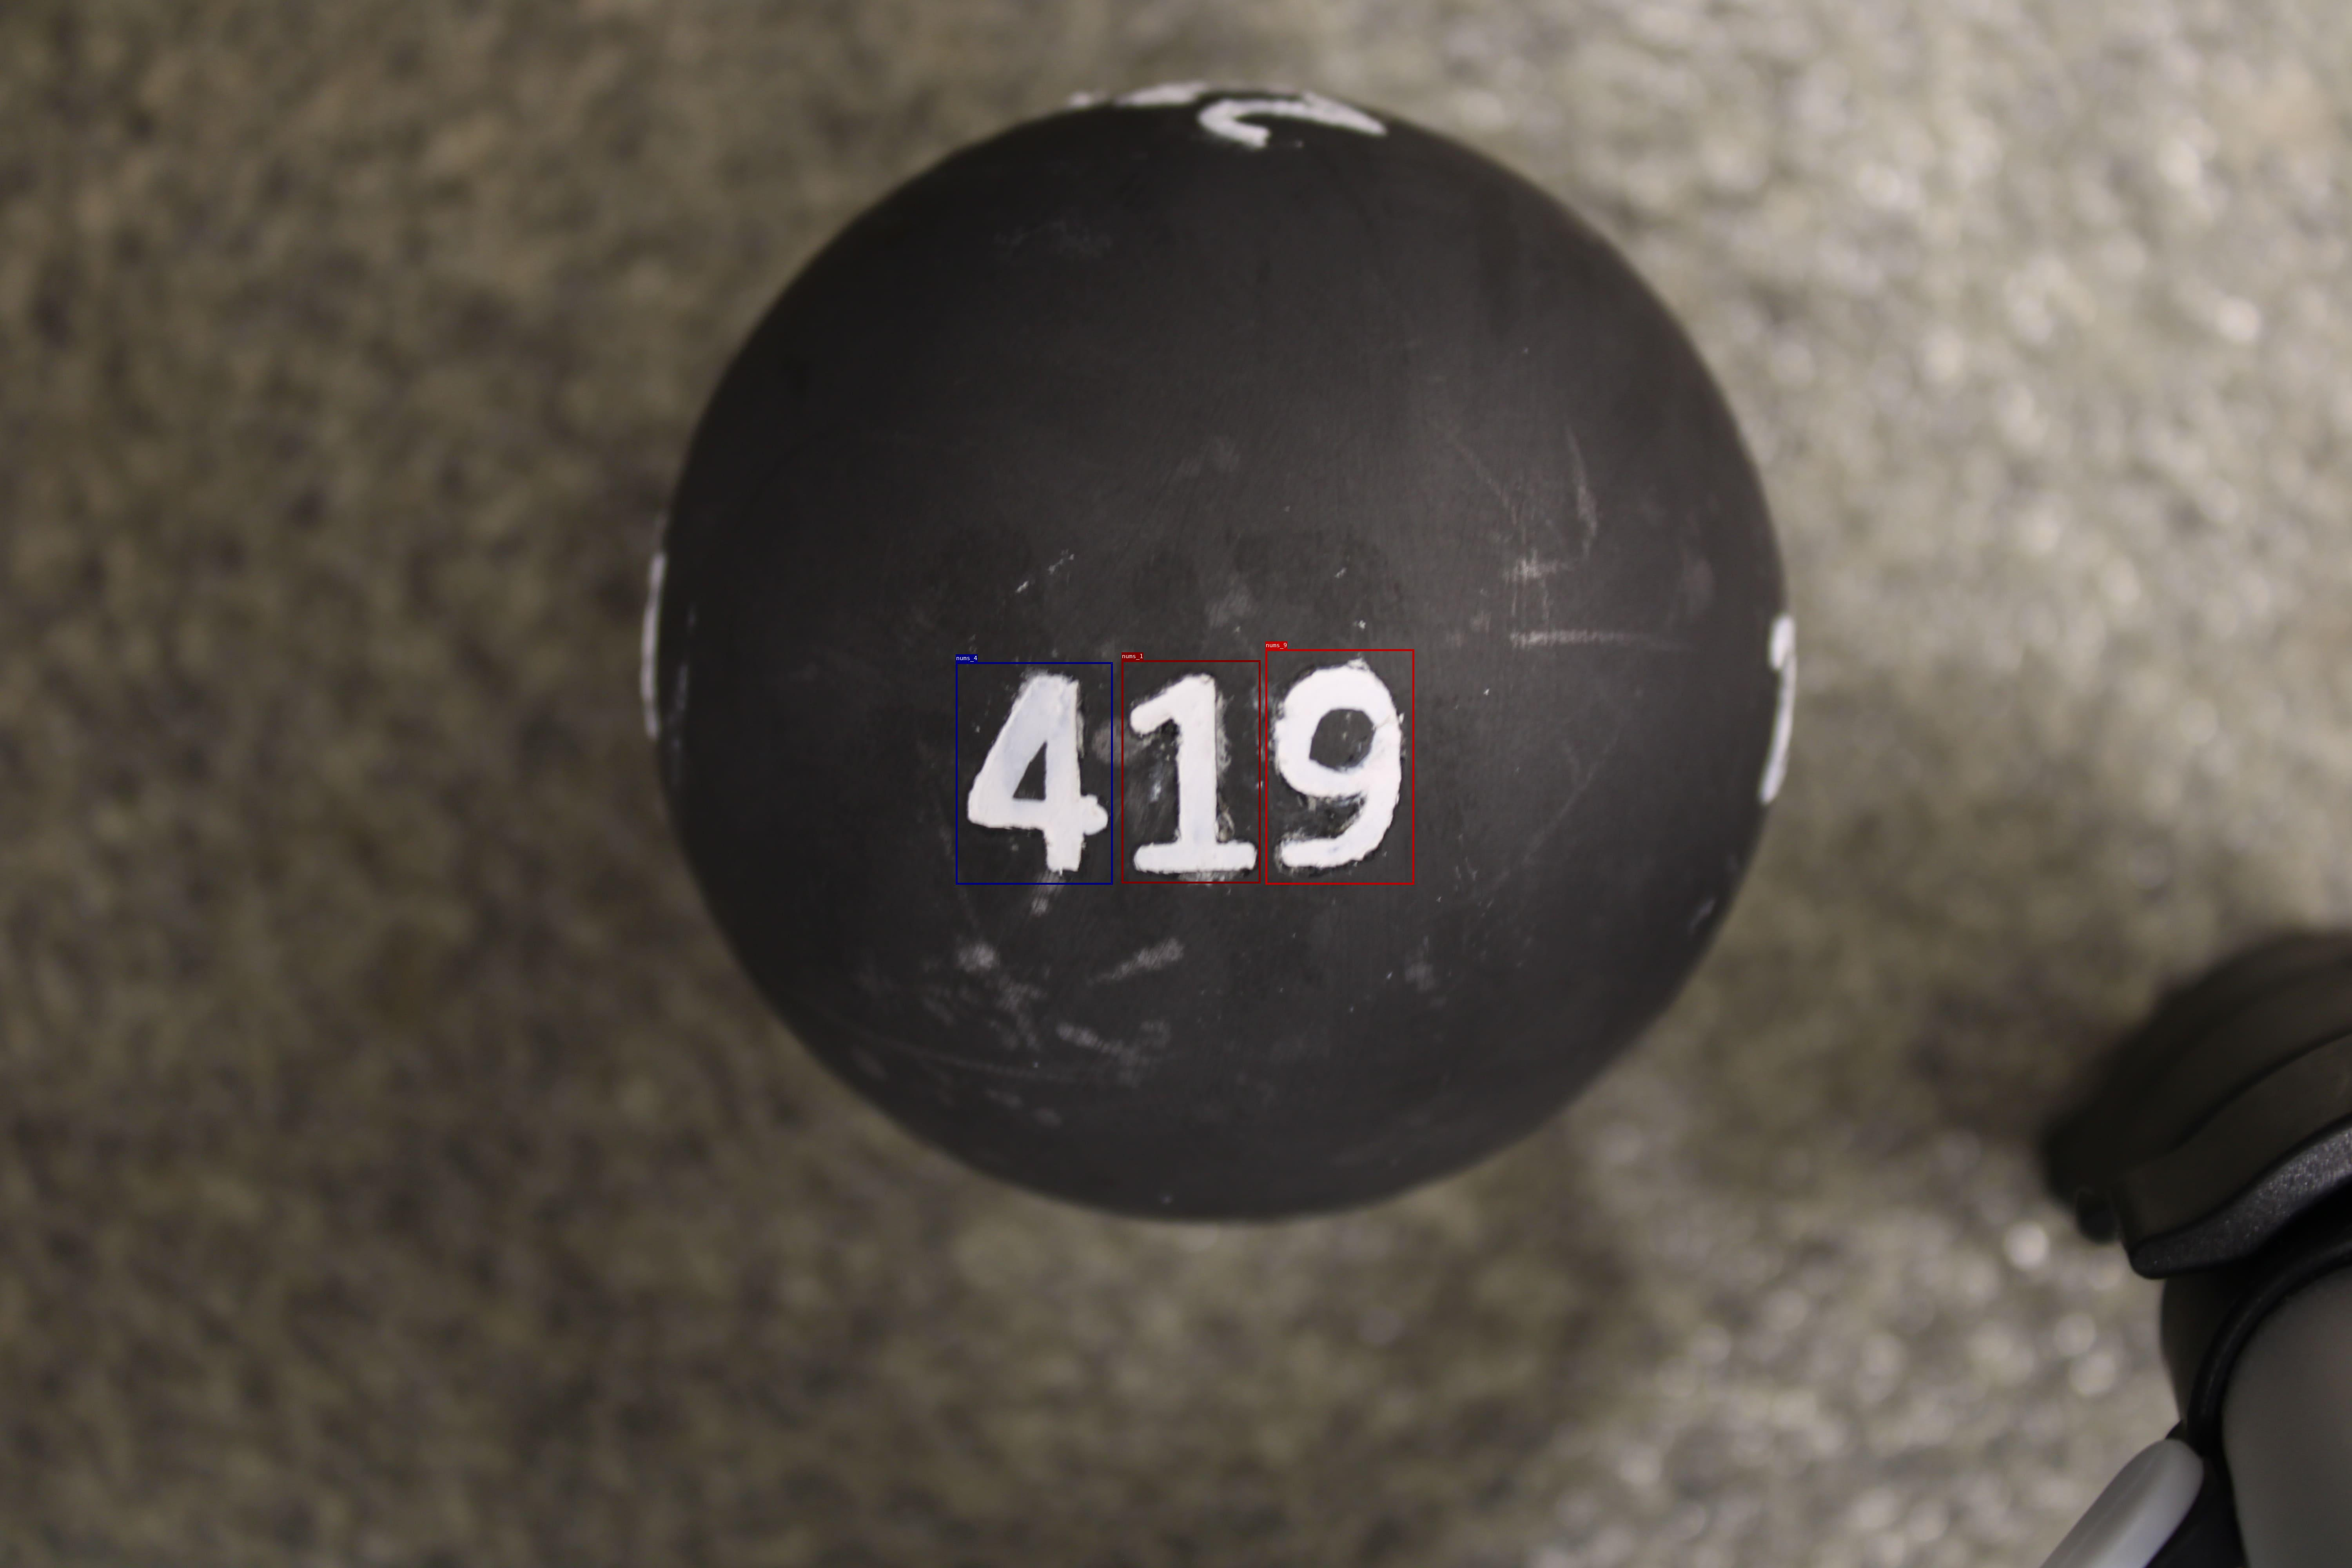nums_1: (1122, 660, 1260, 884)
nums_4: (955, 661, 1113, 884)
nums_9: (1265, 649, 1414, 884)
